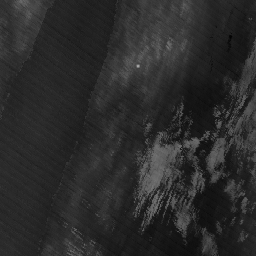Target: (134, 63, 141, 69)
